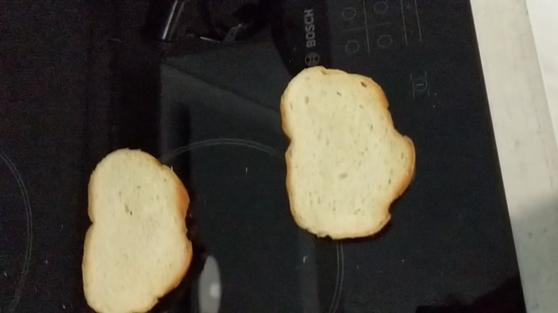white_bread: (278, 65, 417, 242), (82, 147, 194, 313)
